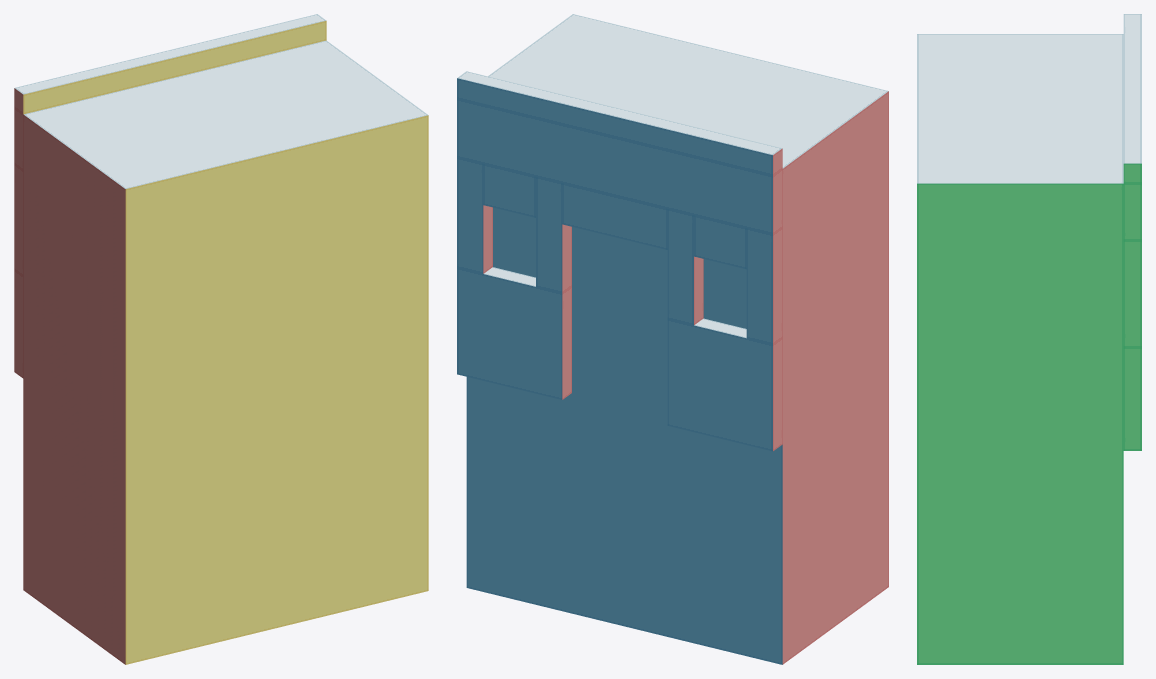
File: building_1.glb
The picture shows the model from 3 angles, left to right: view 1: azimuth 30°, elevation 25°; view 2: azimuth 150°, elevation 25°; view 3: azimuth 270°, elevation 25°; orthographic projection. The views are drawn at different scales.
Parts seen in each view (by area): view 1: cuboid, cuboid_node_0, cuboid_node_7, cuboid_node_2; view 2: cuboid, cuboid_node, cuboid_node_2, cuboid_node_1, cuboid_node_0, cuboid_node_9, cuboid_node_7, cuboid_node_8, cuboid_node_4, cuboid_node_3, cuboid_node_5, cuboid_node_6; view 3: cuboid, cuboid_node_0, cuboid_node_3, cuboid_node_1, cuboid_node.
Part boxes in pixels (left/top/right/bottom): cuboid: left=23, top=40, right=428, bottom=664; cuboid_node_0: left=14, top=14, right=326, bottom=114; cuboid_node_7: left=14, top=164, right=23, bottom=275; cuboid_node_2: left=14, top=270, right=23, bottom=378; cuboid: left=466, top=14, right=888, bottom=664; cuboid_node: left=457, top=99, right=782, bottom=234; cuboid_node_2: left=667, top=318, right=782, bottom=451; cuboid_node_1: left=457, top=267, right=571, bottom=399; cuboid_node_0: left=457, top=71, right=782, bottom=175; cuboid_node_9: left=562, top=183, right=667, bottom=249; cuboid_node_7: left=746, top=227, right=782, bottom=344; cuboid_node_8: left=667, top=209, right=703, bottom=325; cuboid_node_4: left=536, top=176, right=571, bottom=293; cuboid_node_3: left=457, top=157, right=492, bottom=273; cuboid_node_5: left=483, top=164, right=535, bottom=217; cuboid_node_6: left=694, top=215, right=746, bottom=269; cuboid: left=917, top=34, right=1123, bottom=664; cuboid_node_0: left=1123, top=14, right=1141, bottom=183; cuboid_node_3: left=1123, top=240, right=1141, bottom=347; cuboid_node_1: left=1123, top=347, right=1141, bottom=450; cuboid_node: left=1123, top=183, right=1141, bottom=240.
Bounding box in the file's own units: 6 × 9.38 × 3.81.
Materials: 1 (1 with a texture image).
